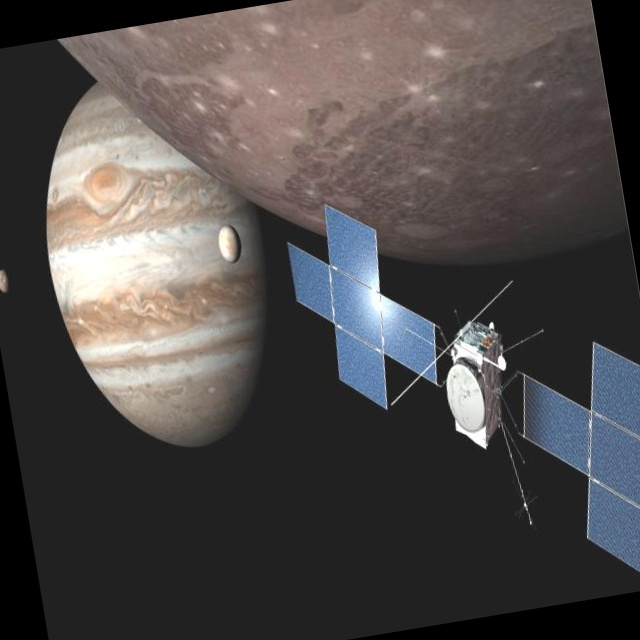satellite: (265, 144, 640, 640)
